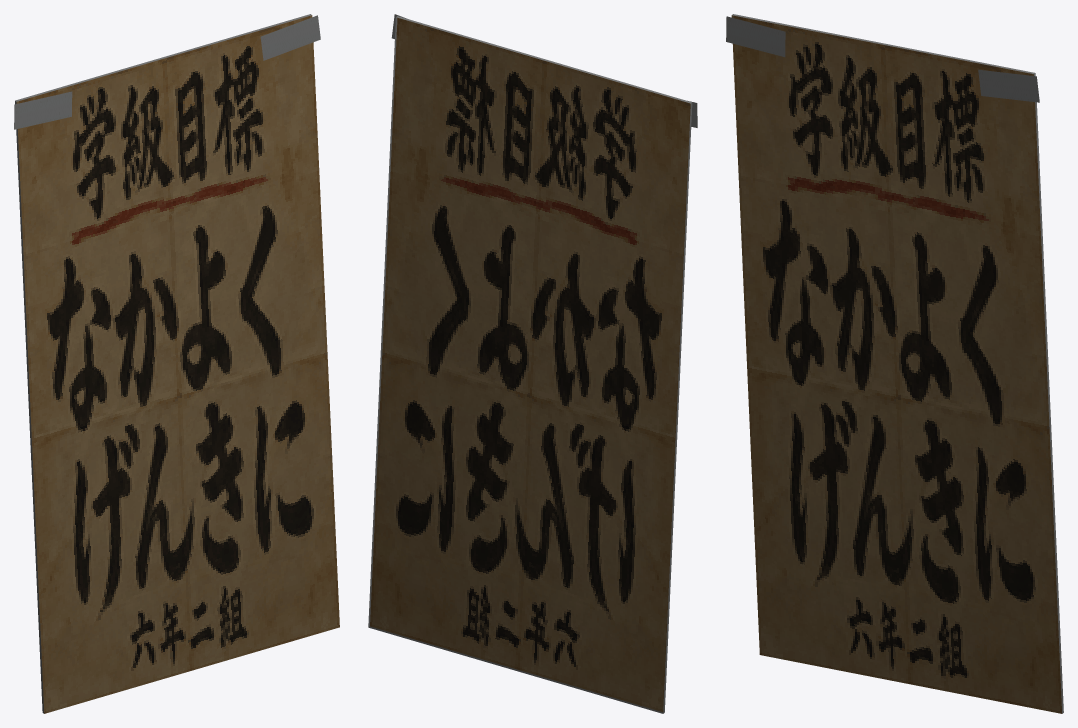
The model's file is prop_poster-mokuhyo-2.glb.
3 renders of one model, left to right at view 1: azimuth 30°, elevation 25°; view 2: azimuth 150°, elevation 25°; view 3: azimuth 330°, elevation 25°, orthographic. The views are drawn at different scales.
Parts seen in each view (by area): view 1: prop_poster-mokuhyo-2; view 2: prop_poster-mokuhyo-2; view 3: prop_poster-mokuhyo-2.
Part boxes in pixels (box(x1,y1,x2,y2)): prop_poster-mokuhyo-2: box(14, 14, 339, 713); prop_poster-mokuhyo-2: box(368, 14, 697, 713); prop_poster-mokuhyo-2: box(726, 14, 1063, 713).
Size of the model in its own units: 0.3396 by 0.6281 by 0.0055.
2 materials, 2 textured.
